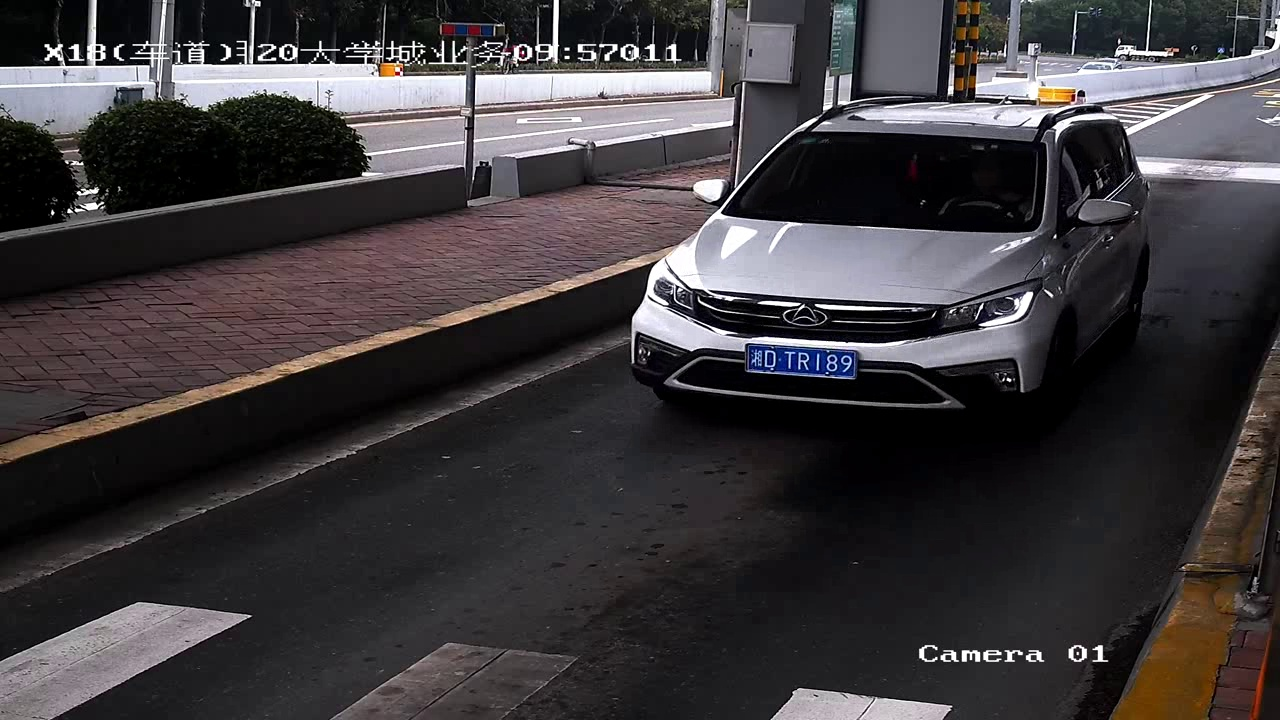bluePlate: (743, 340, 860, 380)
car: (617, 86, 1166, 437)
